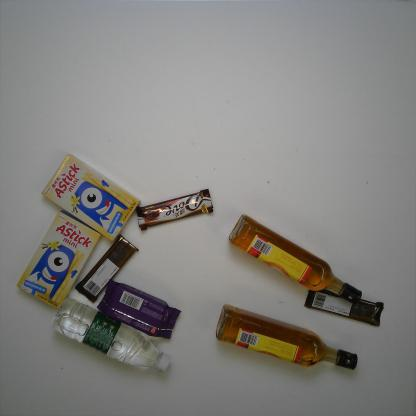Chocolate: (75, 230, 142, 304), (133, 186, 217, 233), (303, 285, 385, 329)
Dessert: (40, 152, 142, 244), (15, 209, 101, 312), (95, 278, 182, 342)
Drink: (48, 299, 172, 375)
Seasoner: (228, 213, 364, 304), (214, 303, 361, 374)
